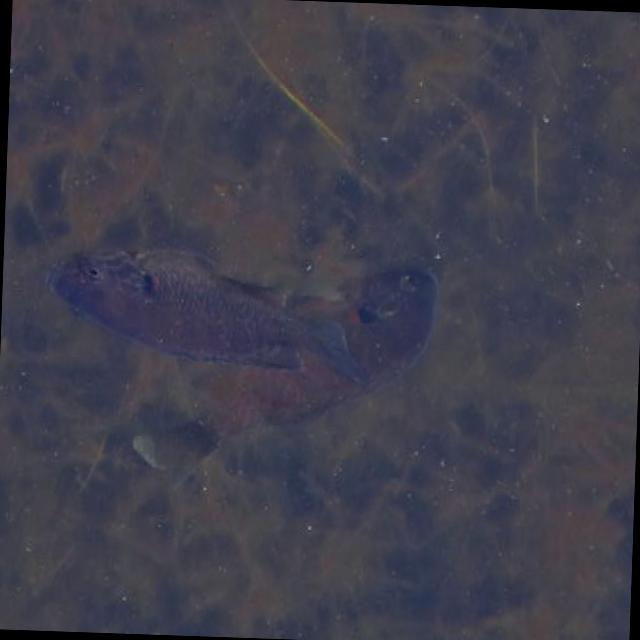Gunes Levregi: (41, 234, 357, 371)
